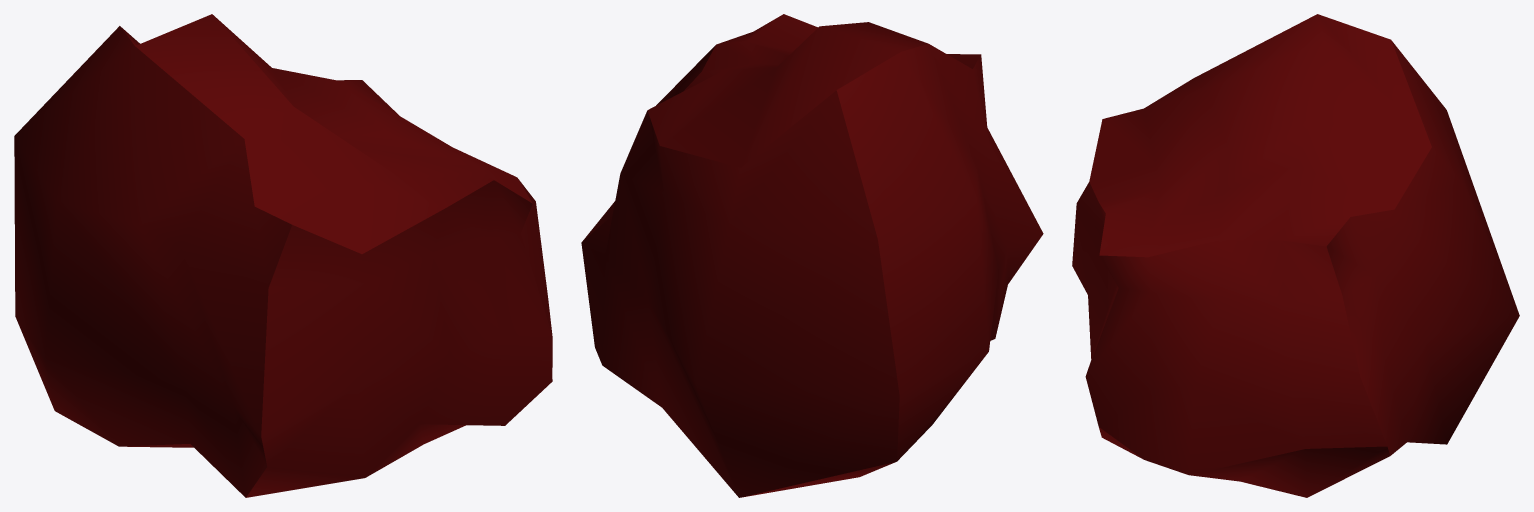
File: enemy01.fbx
3 views of the same model, side by side, from view 1: azimuth 30°, elevation 25°; view 2: azimuth 150°, elevation 25°; view 3: azimuth 270°, elevation 25° (orthographic). The views are drawn at different scales.
Visible parts, largest first — view 1: pCube3; view 2: pCube3; view 3: pCube3.
Part boxes in pixels (<box>): pCube3: <box>14,14,552,497</box>; pCube3: <box>581,14,1043,497</box>; pCube3: <box>1072,14,1519,497</box>.
Size of the model in its own units: 12.79 by 13.18 by 13.46.
